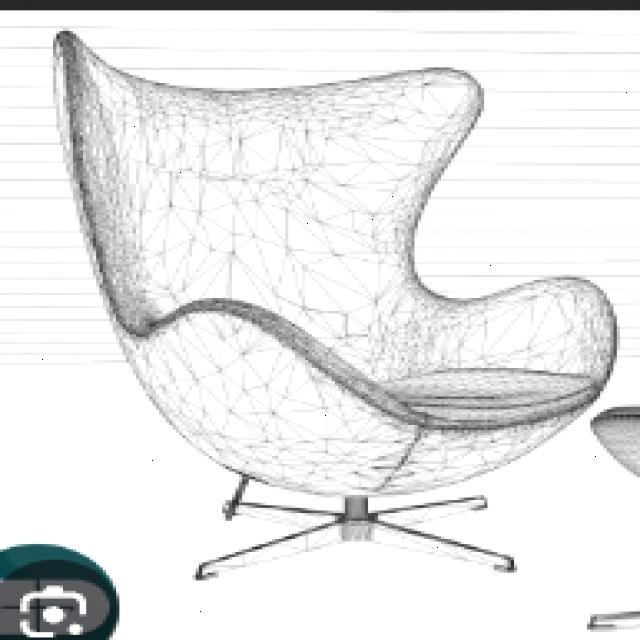Leg_Structure: (186, 492, 519, 587)
egg_armrest: (41, 23, 628, 506)
